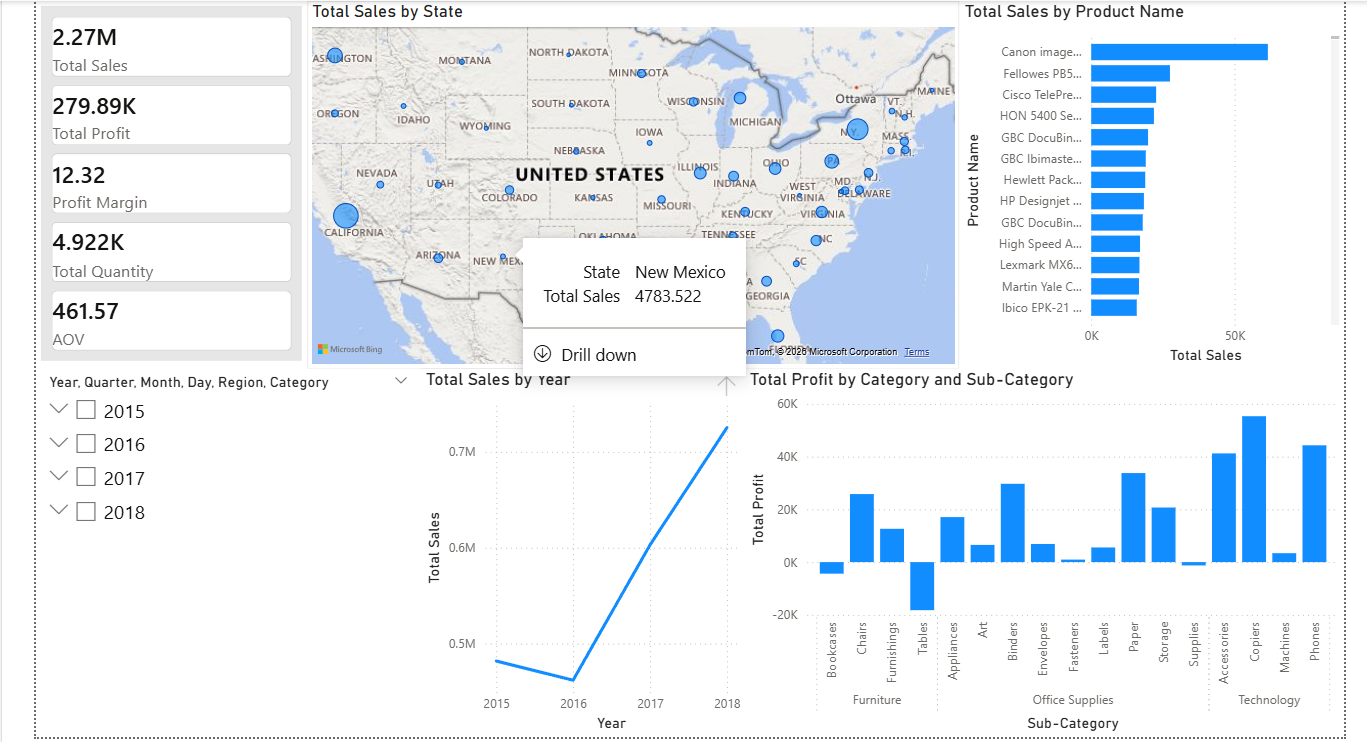

The page's visual inventory and layout, read from the dashboard file:
{"tool":"powerbi","page":{"name":"Page 1","canvas":[1280,720],"ordinal":0},"visuals":[{"type":"lineChart","fields":{"Category":["Merge1.Order Date.Variation.Date Hierarchy.Year","Merge1.Order Date.Variation.Date Hierarchy.Quarter","Merge1.Order Date.Variation.Date Hierarchy.Month","Merge1.Order Date.Variation.Date Hierarchy.Day"],"Y":["Merge1.Total Sales"]},"box":[376.2,360,317.5,360],"z":0},{"type":"map","fields":{"Size":["Merge1.Total Sales"],"Category":["Merge1.State","Merge1.City","Merge1.Region"]},"box":[265,0,638.8,360],"z":1000},{"type":"barChart","fields":{"Category":["Merge1.Product Name"],"Y":["Merge1.Total Sales"]},"box":[903.8,0,376.2,360],"z":2000},{"type":"columnChart","fields":{"Category":["Merge1.Category","Merge1.Sub-Category"],"Y":["Merge1.Total Profit"]},"box":[693.8,360,586.2,360],"z":3000},{"type":"cardVisual","fields":{"Data":["Merge1.Total Sales","Merge1.Total Profit","Merge1.Profit Margin","Merge1.Total Quantity","Merge1.AOV"]},"box":[0,0,265,360],"z":4000},{"type":"slicer","fields":{"Values":["Merge1.Order Date.Variation.Date Hierarchy.Year","Merge1.Order Date.Variation.Date Hierarchy.Quarter","Merge1.Order Date.Variation.Date Hierarchy.Month","Merge1.Order Date.Variation.Date Hierarchy.Day","Merge1.Region","Merge1.Category"]},"box":[0,360,376.2,360],"z":4001}]}

Visuals, with their boxes on the page's 1280x720 design canvas (x1, y1, x2, y2). These are canvas units, not pixel positions in the 1367x742 screenshot, which may show the page scaled, cropped or inside an application window:
lineChart - Merge1.Order Date.Variation.Date Hierarchy.Year x Merge1.Order Date.Variation.Date Hierarchy.Quarter: (x1=376, y1=360, x2=694, y2=720)
map - Merge1.Total Sales x Merge1.State: (x1=265, y1=0, x2=904, y2=360)
barChart - Merge1.Product Name x Merge1.Total Sales: (x1=904, y1=0, x2=1280, y2=360)
columnChart - Merge1.Category x Merge1.Sub-Category: (x1=694, y1=360, x2=1280, y2=720)
cardVisual - Merge1.Total Sales x Merge1.Total Profit: (x1=0, y1=0, x2=265, y2=360)
slicer - Merge1.Order Date.Variation.Date Hierarchy.Year x Merge1.Order Date.Variation.Date Hierarchy.Quarter: (x1=0, y1=360, x2=376, y2=720)
